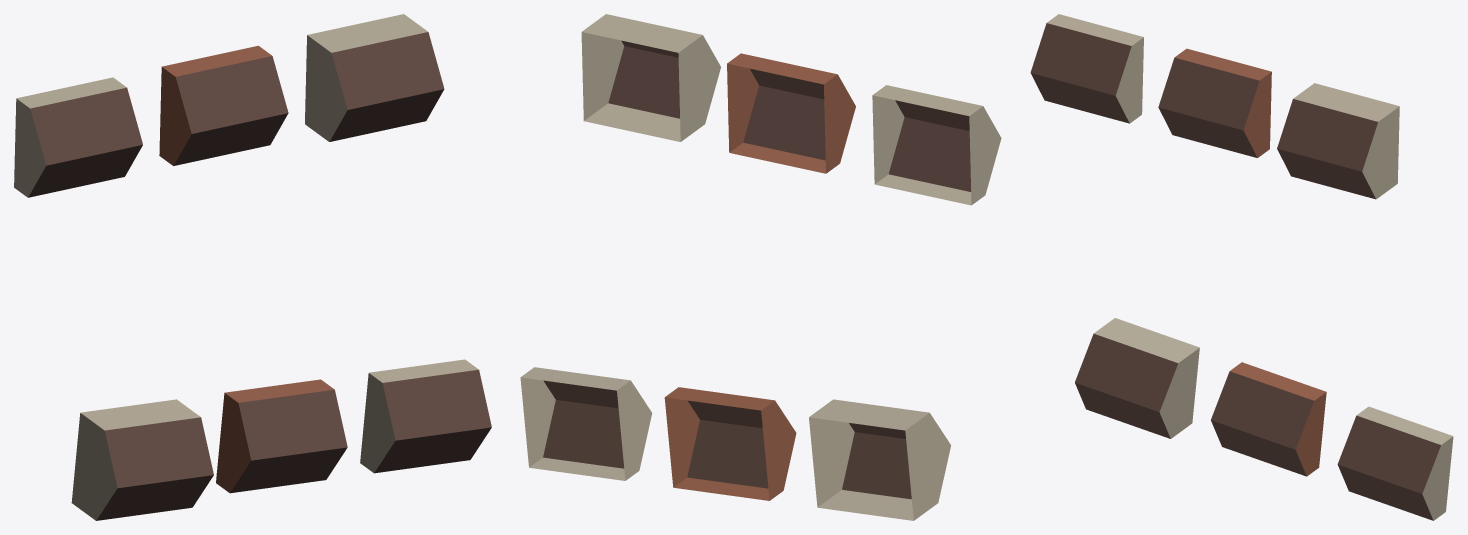
Rendered from island_bldg_08_03.obj.
3 views of the same model, side by side, from view 1: azimuth 30°, elevation 25°; view 2: azimuth 150°, elevation 25°; view 3: azimuth 330°, elevation 25° (orthographic). The views are drawn at different scales.
Parts seen in each view (by area): view 1: island_bldg_08_03; view 2: island_bldg_08_03; view 3: island_bldg_08_03.
Boxes of the visible parts, left/top/right/bottom form: island_bldg_08_03: left=14, top=14, right=491, bottom=520; island_bldg_08_03: left=520, top=14, right=1001, bottom=520; island_bldg_08_03: left=1030, top=14, right=1453, bottom=520.
Bounding box in the file's own units: 74.45 × 72.38 × 11.9.
